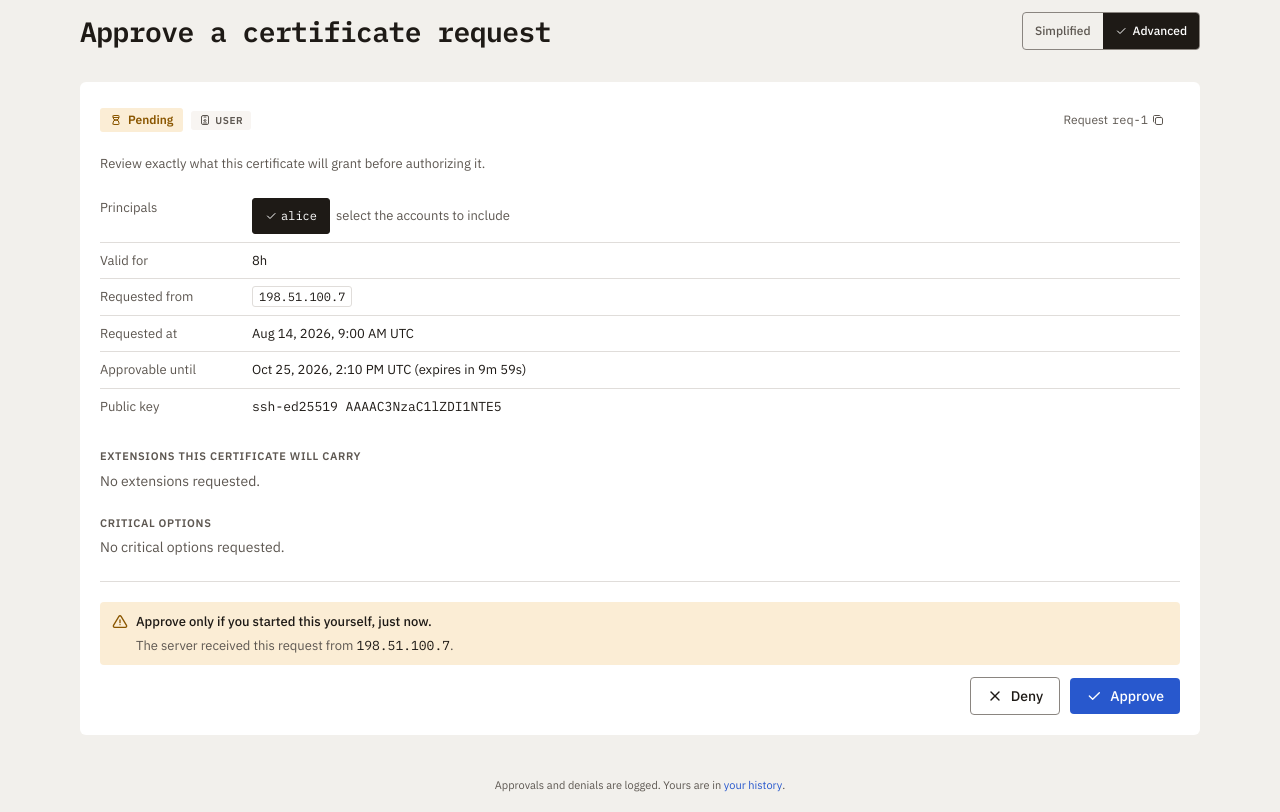
Test: when a decision does not go through › should show the denial when the request was denied in the meantime
The image size is (1280, 812).
What coordinates should you click on to do the following:
click the button with test id "approve-button"
I would click on:
 (1125, 696)
Its box is [1070,678,1180,714].
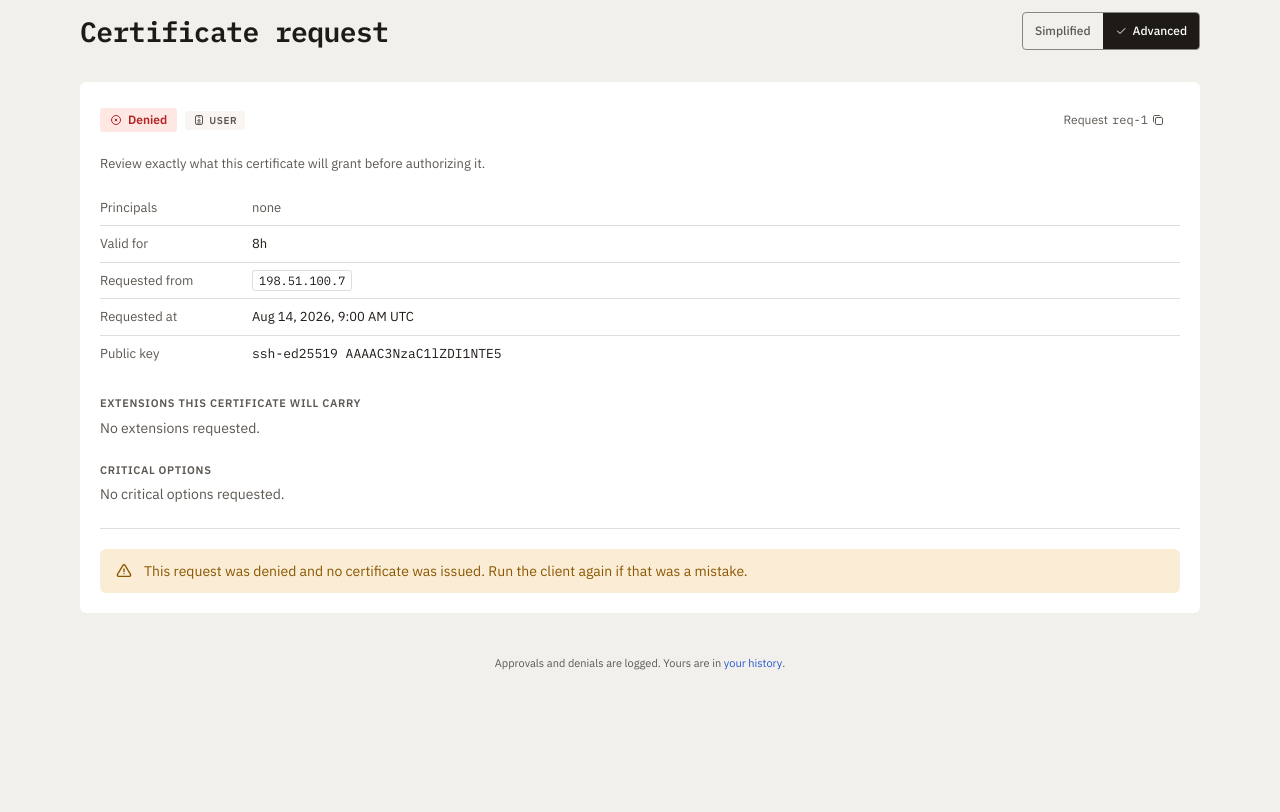
Expected: the message with test id "blocked-already-resolved" shows "denied", [144,562,748,580]
